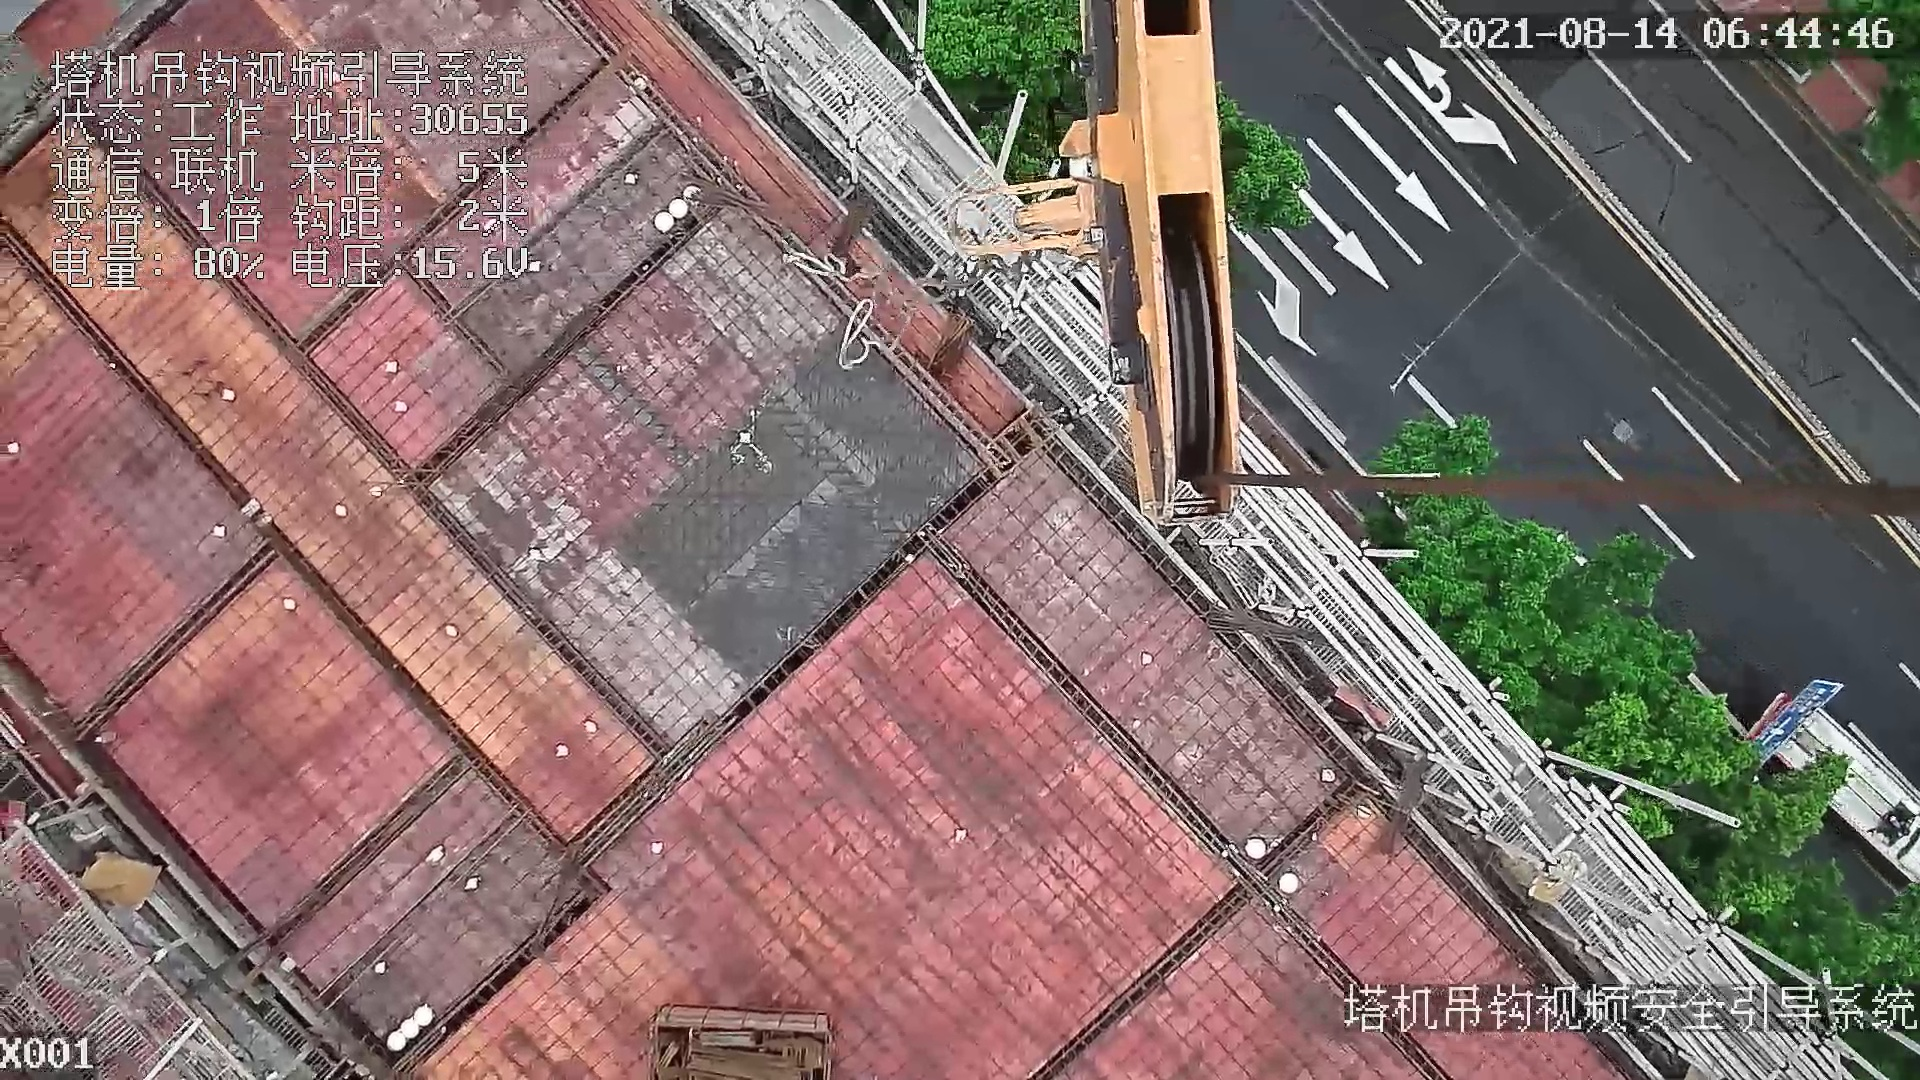hook: (942, 5, 1245, 527)
